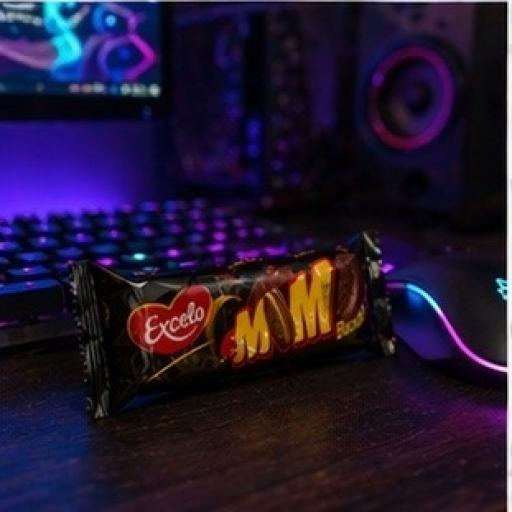MOMO: (40, 195, 422, 448)
